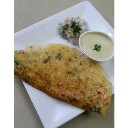dosa: (14, 43, 112, 114)
